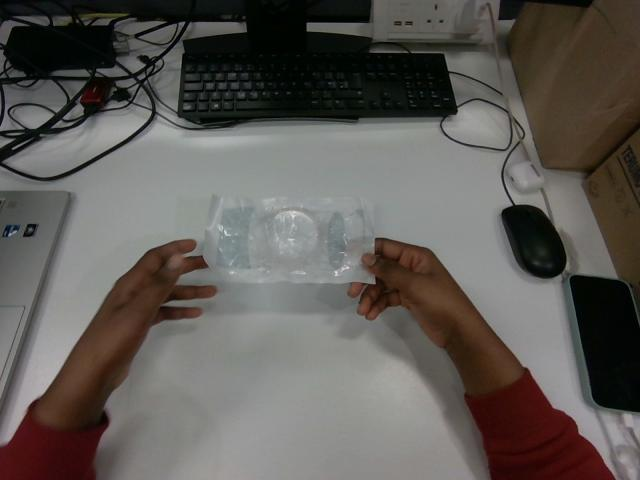gallipot: (203, 196, 374, 283)
